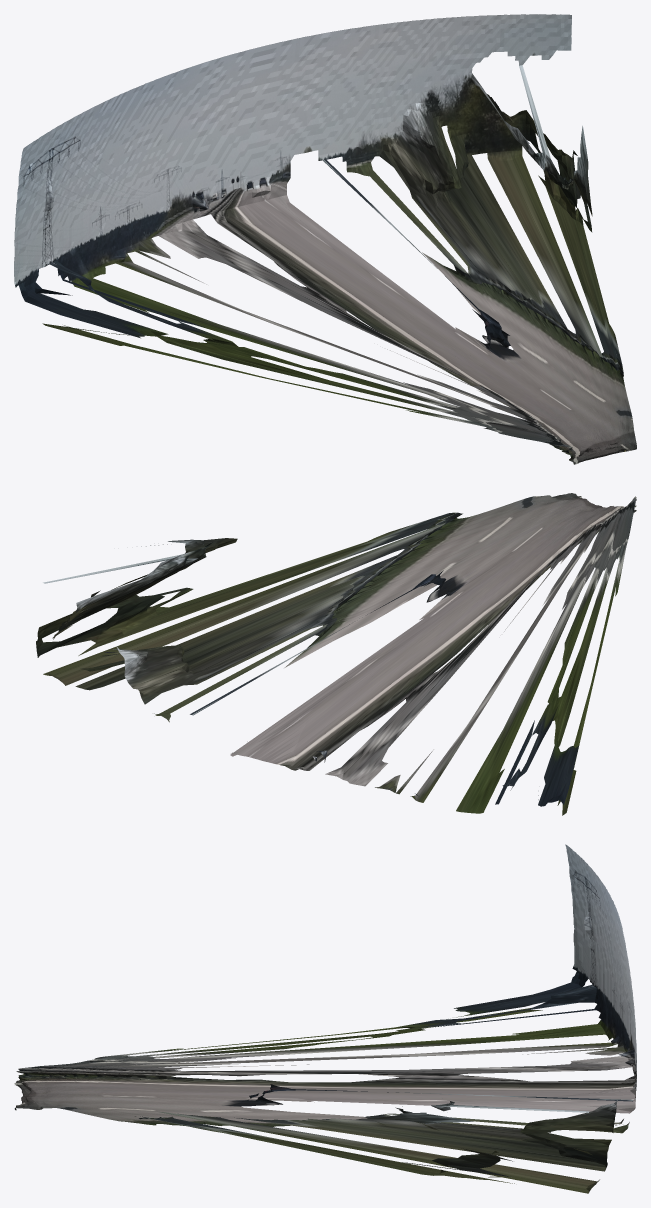
The picture shows the model from 3 angles, top to bottom: view 1: azimuth 30°, elevation 25°; view 2: azimuth 150°, elevation 25°; view 3: azimuth 270°, elevation 25°; orthographic projection. The views are drawn at different scales.
Parts seen in each view (by area): view 1: defaultobject; view 2: defaultobject; view 3: defaultobject.
Part boxes in pixels (x1=…): defaultobject: x1=14, y1=14, x2=636, y2=464; defaultobject: x1=36, y1=493, x2=636, y2=815; defaultobject: x1=14, y1=844, x2=636, y2=1193.
Bounding box in the file's own units: 41.02 × 13.12 × 44.68.
Materials: 1 (1 with a texture image).
